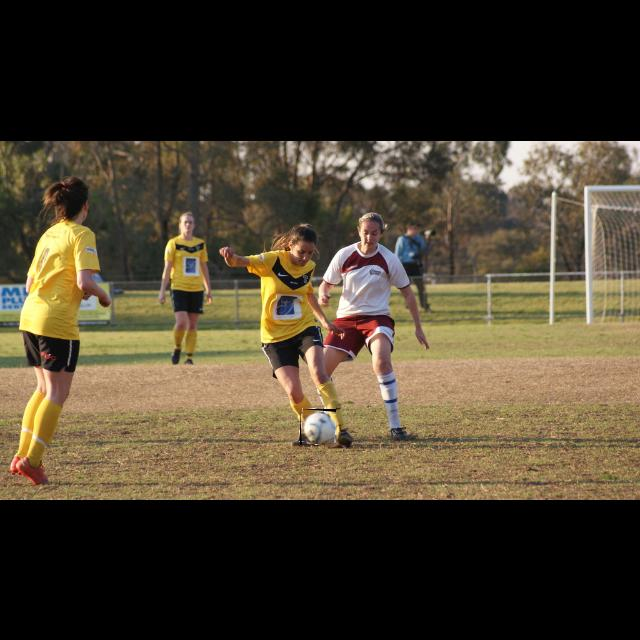Football: (300, 409, 336, 445)
